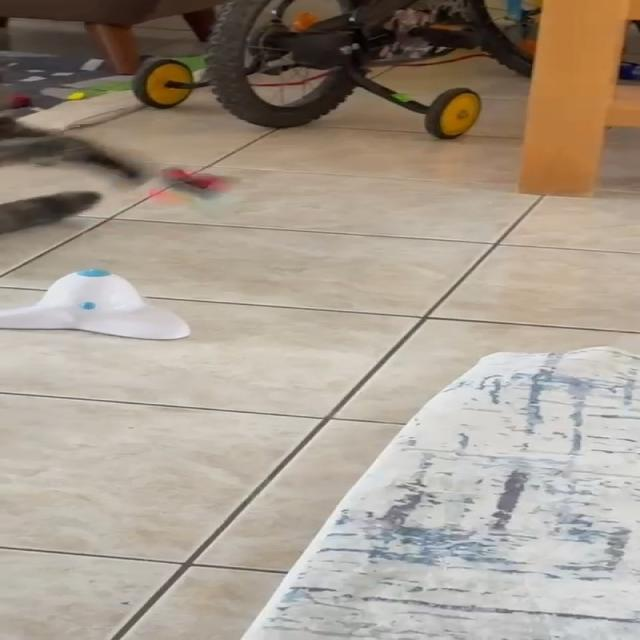authorized: (0, 189, 101, 234)
